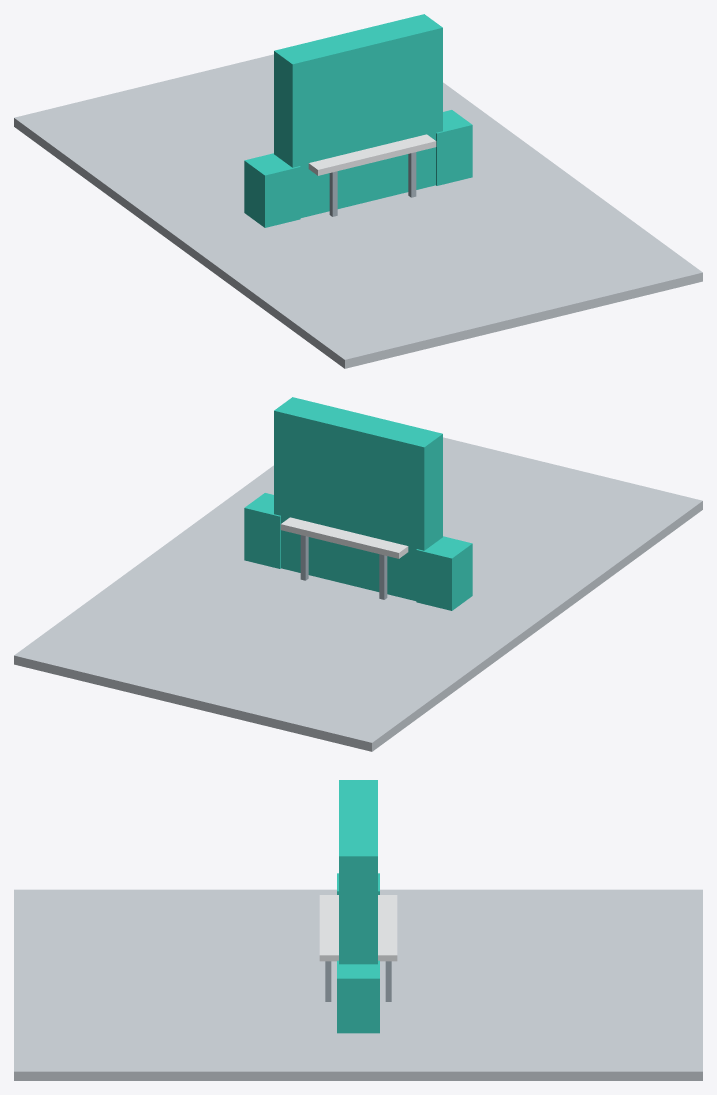
3 views of the same model, one above another, from view 1: azimuth 30°, elevation 25°; view 2: azimuth 150°, elevation 25°; view 3: azimuth 270°, elevation 25° (orthographic). The views are drawn at different scales.
Parts seen in each view (by area): view 1: Exhibition Booth Concept; view 2: Exhibition Booth Concept; view 3: Exhibition Booth Concept.
Boxes of the visible parts, x1,y1,x2,y2 form: Exhibition Booth Concept: (14, 14, 702, 368); Exhibition Booth Concept: (14, 397, 702, 751); Exhibition Booth Concept: (14, 780, 702, 1080).
Size of the model in its own units: 5 by 2.2 by 8.
